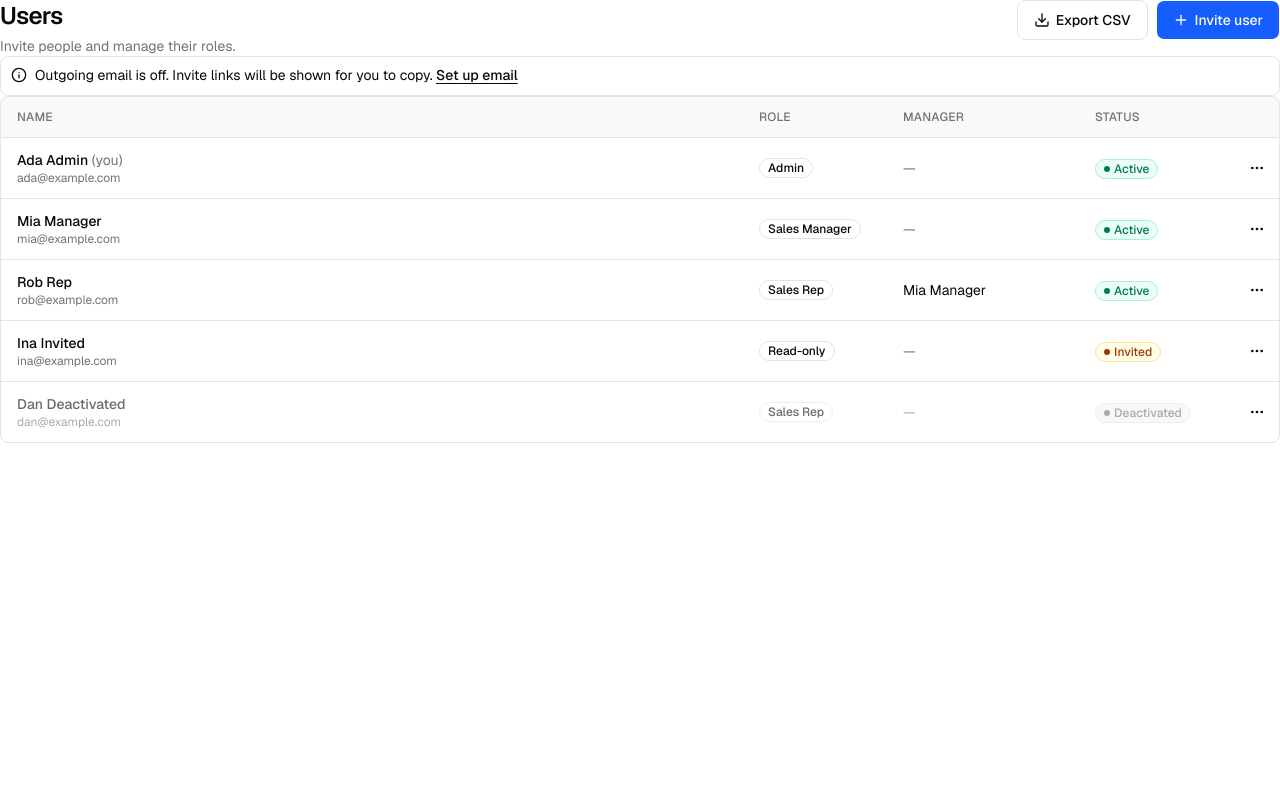
Test case: UsersPage › invites a user and shows the link to copy when it was not emailed
The width and height of the screenshot is (1280, 800).
Click the button "Invite user" at (1218, 20), box [1156,0,1279,40]
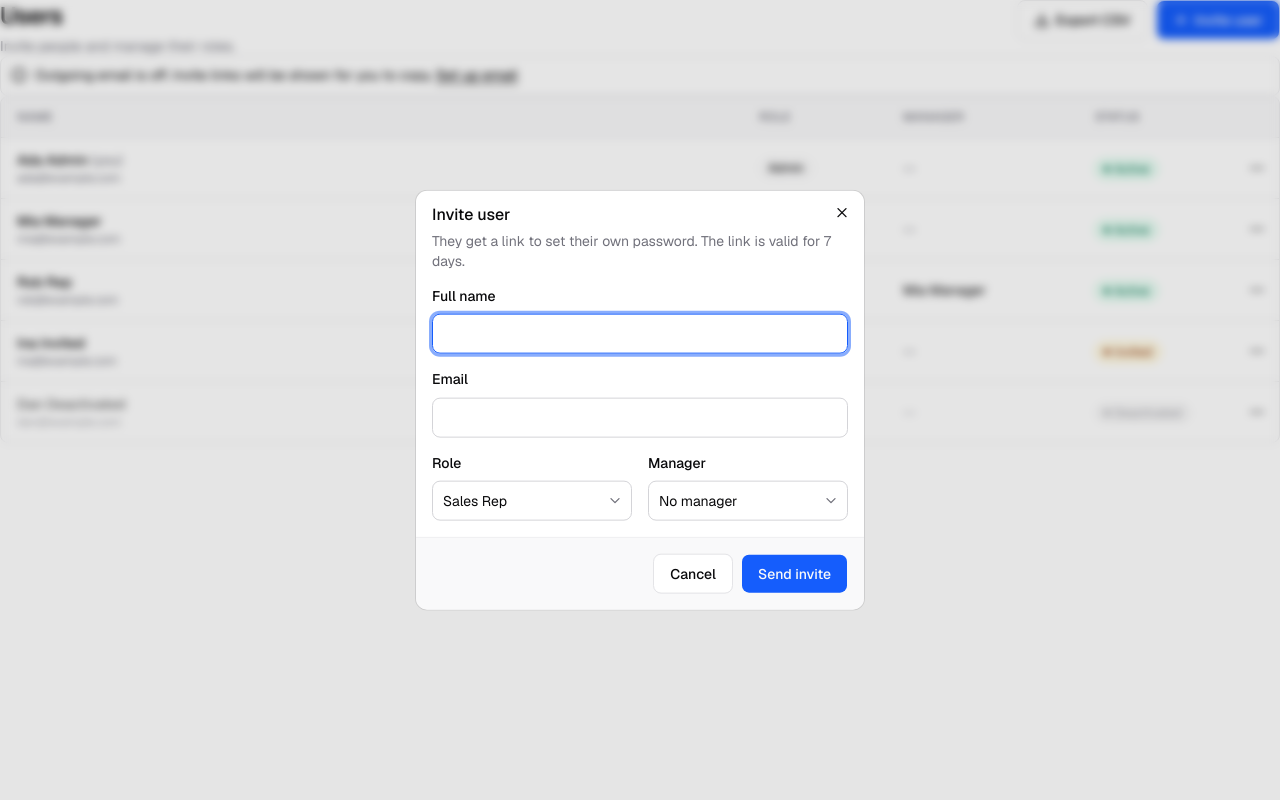
Result: the dropdown labelled "manager" is shown at [648,480,848,520]
Type "Ina Invited" into the field labelled "Full name" at (640, 334), box [432,314,848,354]
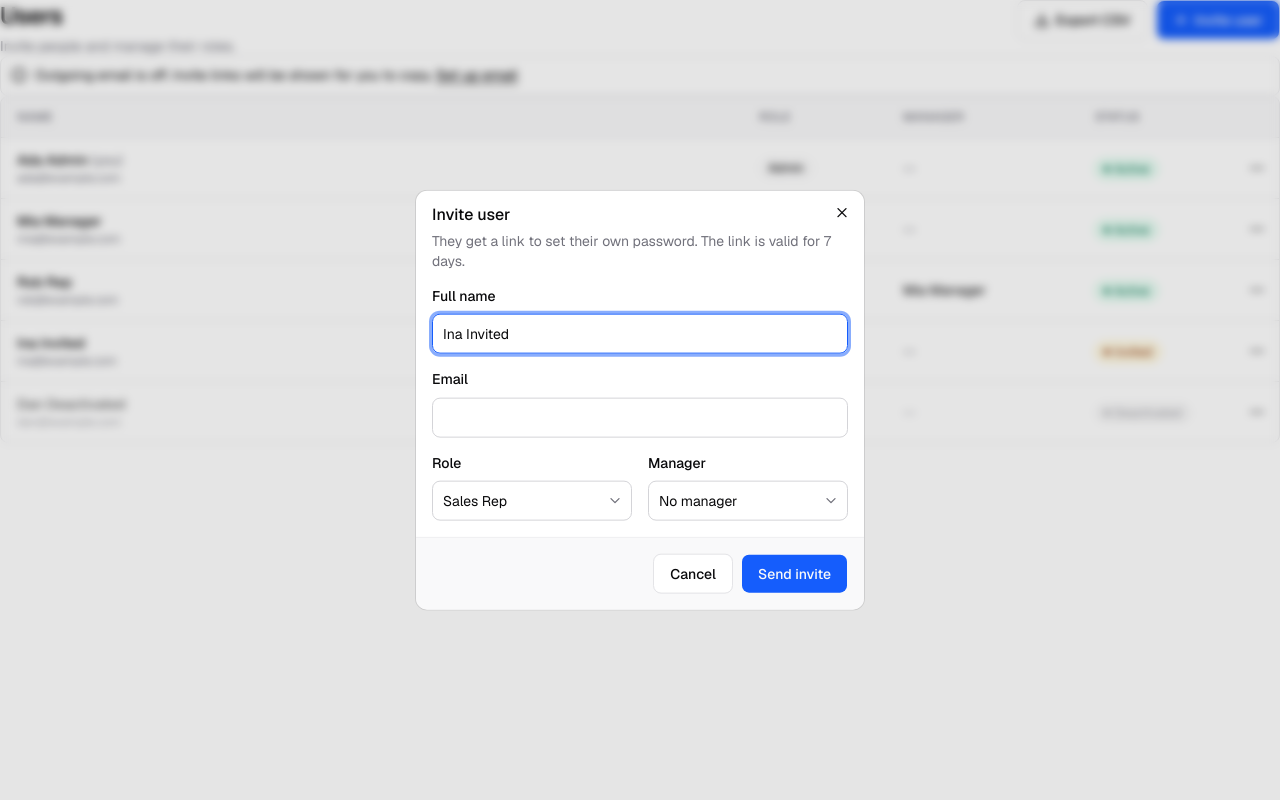
Type "ina@example.com" into the field labelled "Email" at (640, 417), box [432,397,848,437]
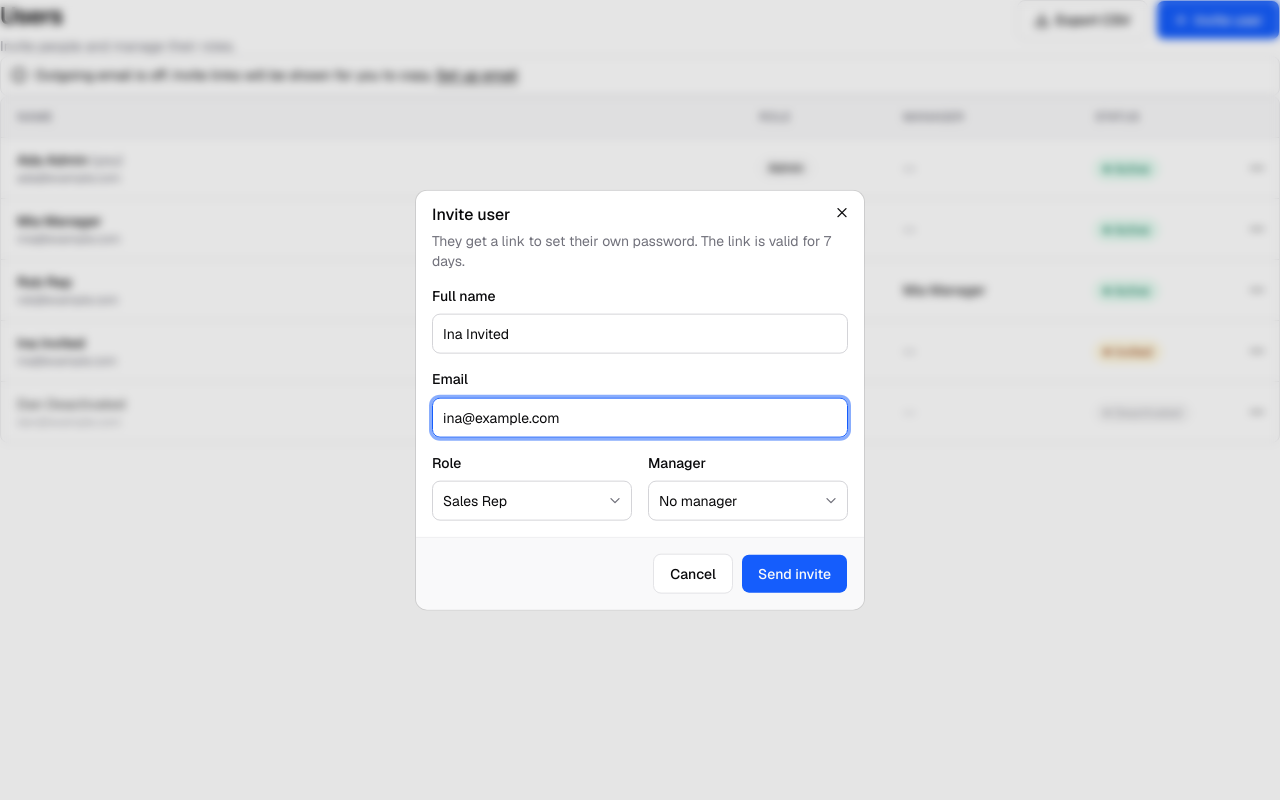
Click the button "Send invite" at (794, 573), box [741,553,848,593]
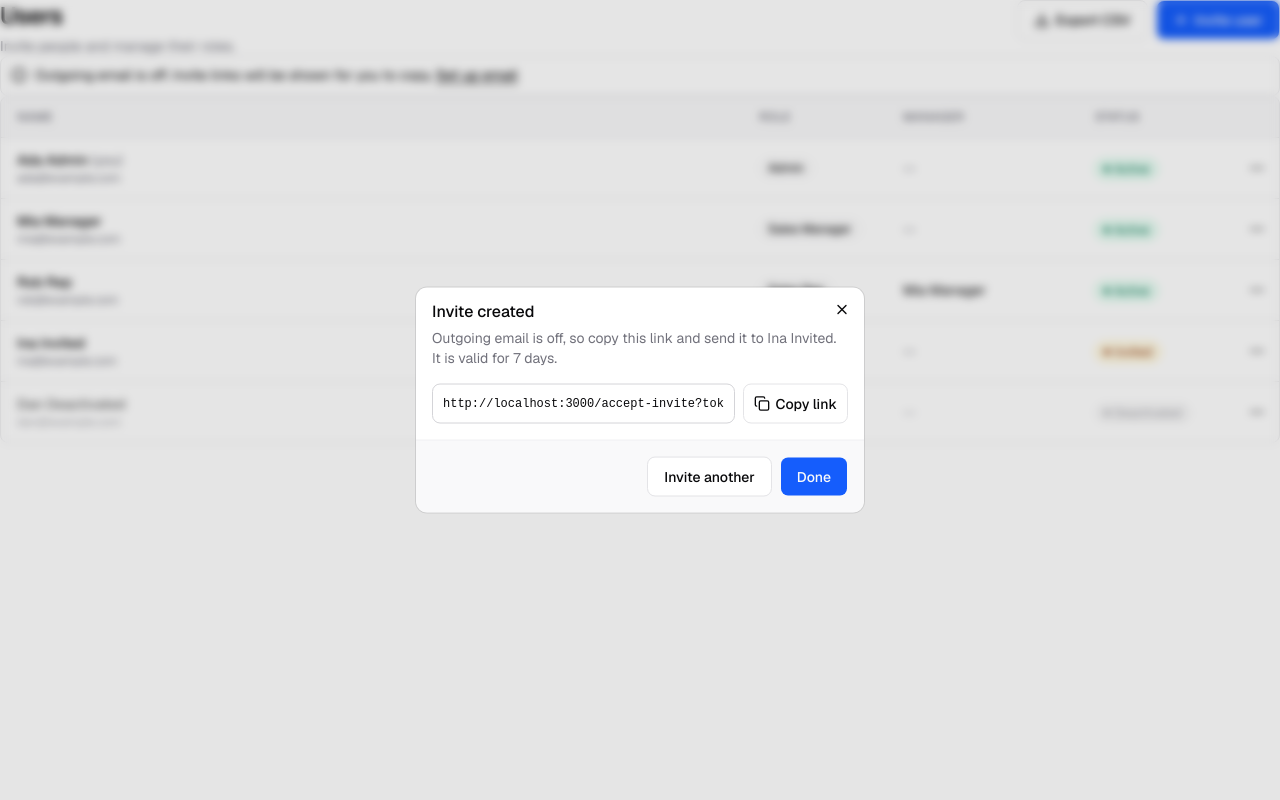
Result: the field named "Invite link" holds "http://localhost:3000/accept-invite?token=abc" at [432,384,734,424]
Result: the button "Copy link" is shown at [742,384,848,424]
